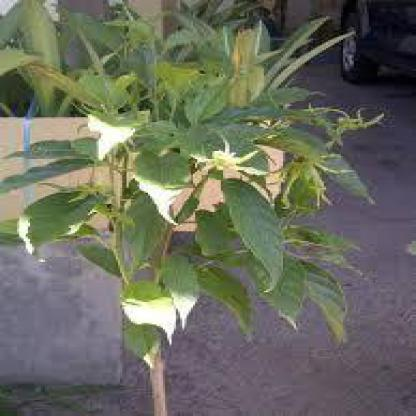Kenanga: (200, 144, 269, 184), (329, 109, 391, 146)
